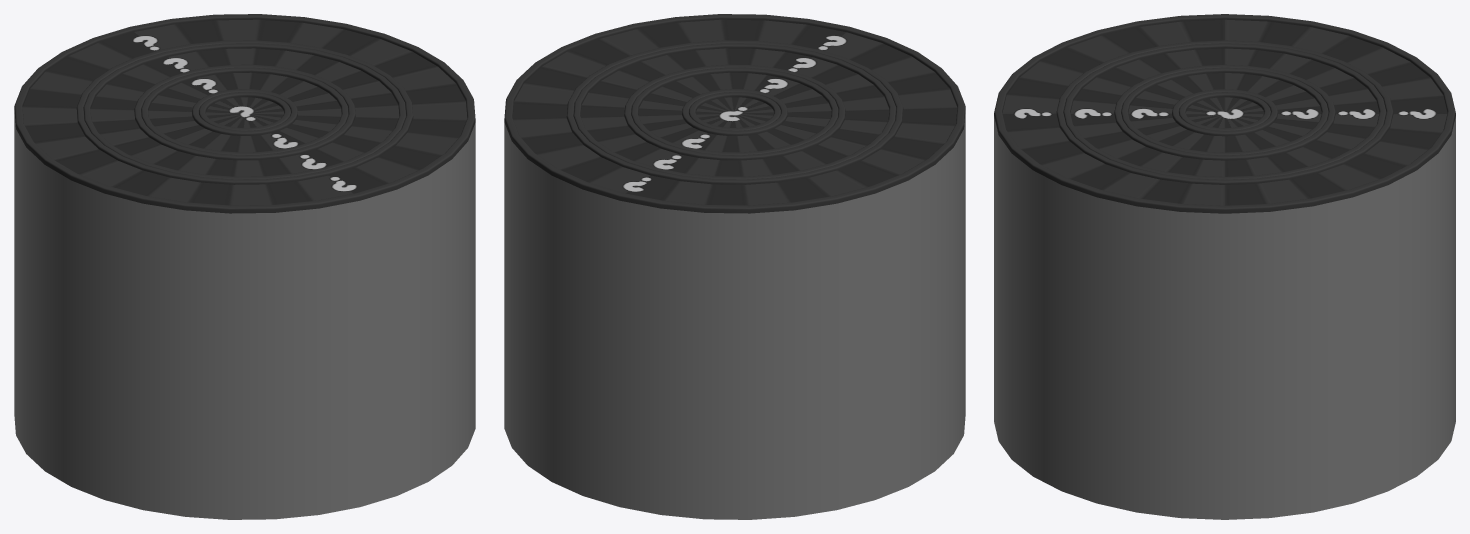
The model's file is H_full.fbx.
The picture shows the model from 3 angles, left to right: view 1: azimuth 30°, elevation 25°; view 2: azimuth 150°, elevation 25°; view 3: azimuth 270°, elevation 25°; orthographic projection.
Parts seen in each view (by area): view 1: Section_3_Full_2, Section_3_Full_3, Section_2_Full_3, Section_3_Full_1, Section_1_Full_3, Section_2_Full_1, Section_1_full_1, Circle_full_3, Circle_Full_1; view 2: Section_3_Full_2, Section_3_Full_3, Section_2_Full_3, Section_3_Full_1, Section_1_Full_3, Section_2_Full_1, Section_1_full_1, Circle_full_3, Circle_Full_1; view 3: Section_3_Full_2, Section_3_Full_3, Section_2_Full_3, Section_3_Full_1, Section_1_Full_3, Section_2_Full_1, Section_1_full_1, Circle_full_3, Circle_Full_1.
Boxes of the visible parts, box(x1,y1,x2,y2) form: Section_3_Full_2: box(14, 110, 475, 519); Section_3_Full_3: box(22, 19, 467, 205); Section_2_Full_3: box(90, 48, 399, 176); Section_3_Full_1: box(14, 14, 475, 213); Section_1_Full_3: box(148, 72, 341, 152); Section_2_Full_1: box(83, 43, 406, 179); Section_1_full_1: box(141, 67, 348, 155); Circle_full_3: box(206, 97, 283, 127); Circle_Full_1: box(199, 92, 290, 130); Section_3_Full_2: box(504, 110, 965, 519); Section_3_Full_3: box(512, 19, 957, 205); Section_2_Full_3: box(580, 48, 889, 176); Section_3_Full_1: box(504, 14, 965, 213); Section_1_Full_3: box(638, 72, 831, 152); Section_2_Full_1: box(573, 43, 896, 179); Section_1_full_1: box(631, 67, 838, 155); Circle_full_3: box(696, 97, 773, 127); Circle_Full_1: box(689, 92, 780, 130); Section_3_Full_2: box(994, 116, 1455, 519); Section_3_Full_3: box(1002, 19, 1447, 205); Section_2_Full_3: box(1070, 48, 1379, 176); Section_3_Full_1: box(994, 14, 1455, 213); Section_1_Full_3: box(1128, 73, 1321, 152); Section_2_Full_1: box(1063, 43, 1386, 179); Section_1_full_1: box(1121, 67, 1328, 155); Circle_full_3: box(1186, 97, 1263, 127); Circle_Full_1: box(1179, 92, 1270, 130).
Bounding box in the file's own units: 404 × 301 × 404.
